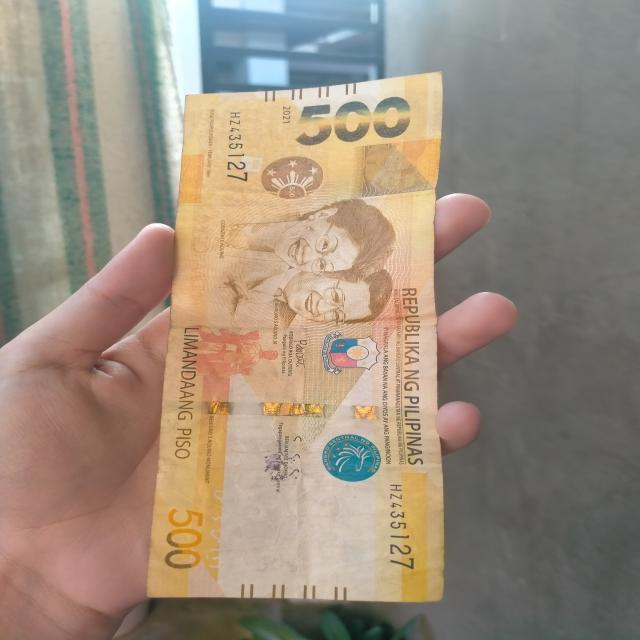concealed_value: (353, 137, 440, 196)
optically_variable_device: (244, 143, 344, 217)
security_thread: (159, 398, 434, 422)
see_through_mark: (198, 484, 236, 578)
serial_number: (382, 475, 425, 579), (212, 105, 252, 189)
